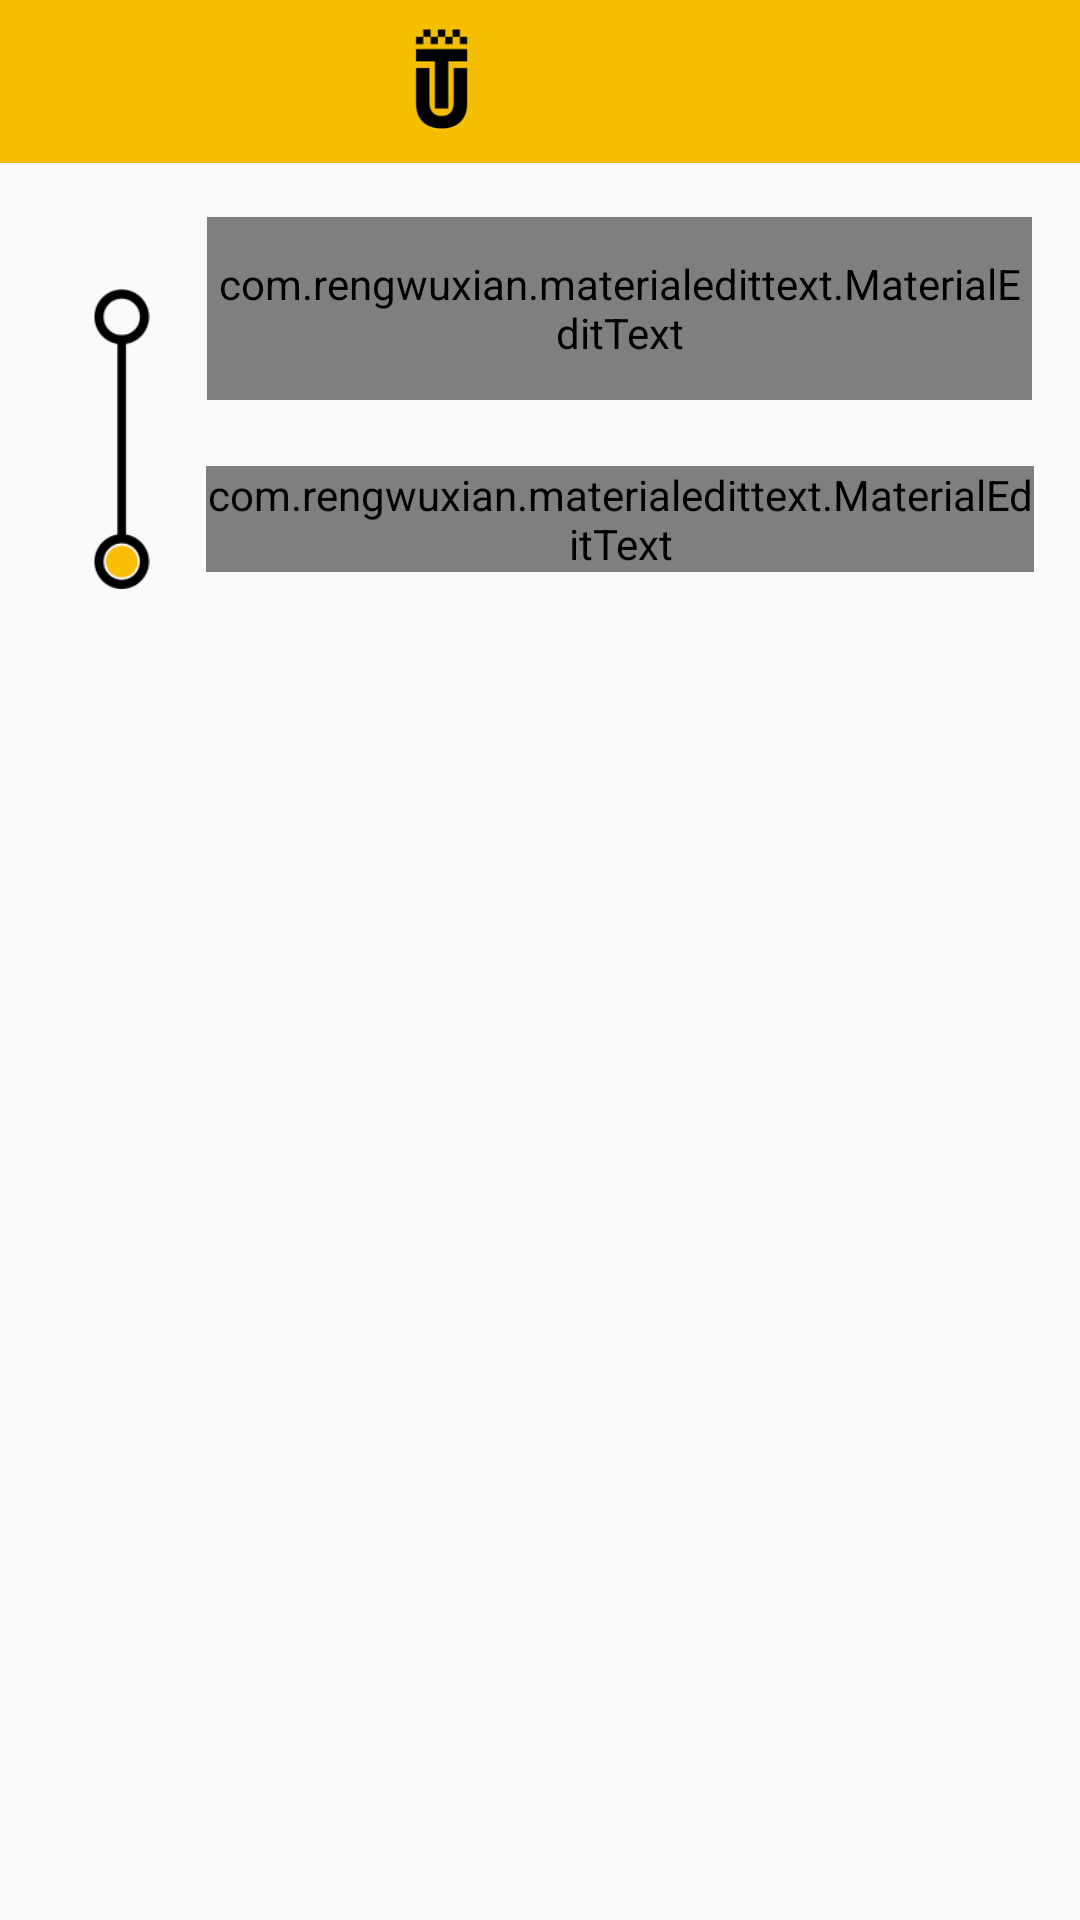

Where to tap for icons on this 1080×1920 app screen, as point (x, y):
srart end: point (122, 439)
